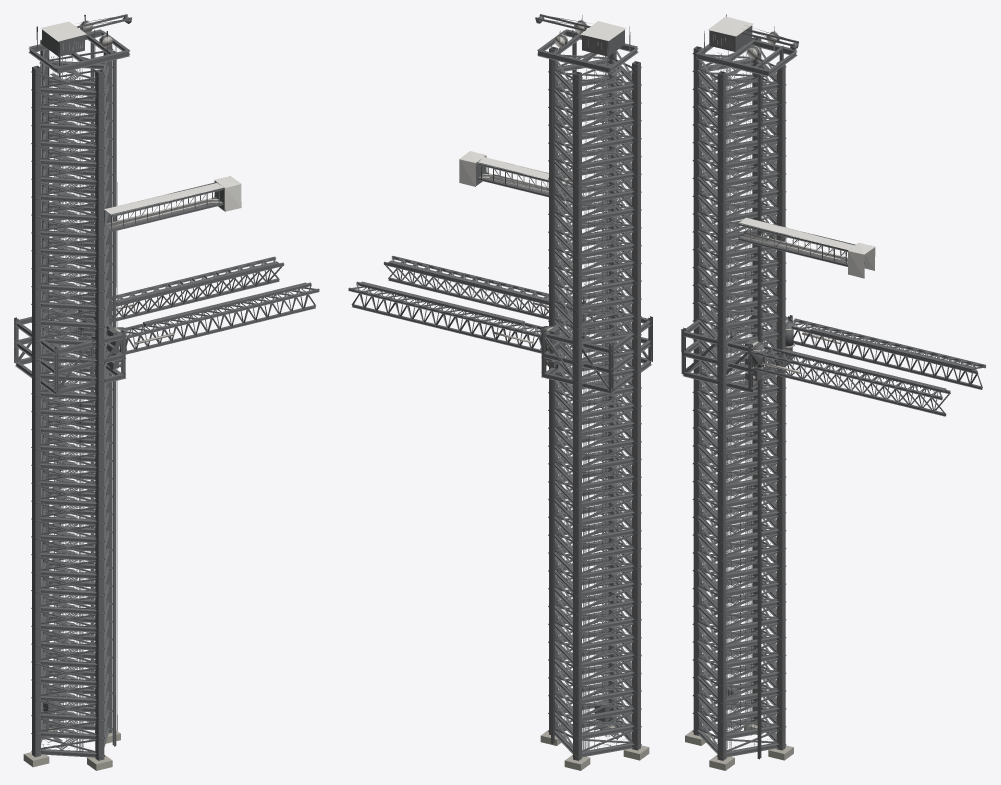
The model's file is tower_b_lod1.glb.
3 views of the same model, side by side, from view 1: azimuth 30°, elevation 25°; view 2: azimuth 150°, elevation 25°; view 3: azimuth 330°, elevation 25° (orthographic).
Visible parts, largest first — view 1: TowerStructure, ArmTruss_R, ArmTruss_L, CarriageFrame, QDTruss; view 2: TowerStructure, ArmTruss_L, ArmTruss_R, CarriageFrame, QDTruss; view 3: TowerStructure, ArmTruss_R, ArmTruss_L, QDTruss, CarriageFrame.
Boxes of the visible parts, <box> form: TowerStructure: <box>23,14,131,770</box>; ArmTruss_R: <box>120,282,319,354</box>; ArmTruss_L: <box>86,256,284,330</box>; CarriageFrame: <box>14,302,126,395</box>; QDTruss: <box>104,176,241,231</box>; TowerStructure: <box>535,14,649,770</box>; ArmTruss_L: <box>348,281,547,353</box>; ArmTruss_R: <box>383,256,572,331</box>; CarriageFrame: <box>541,300,652,393</box>; QDTruss: <box>459,151,595,204</box>; TowerStructure: <box>685,14,798,770</box>; ArmTruss_R: <box>750,343,950,416</box>; ArmTruss_L: <box>785,318,985,389</box>; QDTruss: <box>738,217,875,278</box>; CarriageFrame: <box>681,303,793,393</box>.
Bounding box in the file's own units: 56.93 × 144 × 19.66.
4 materials, 1 textured.
